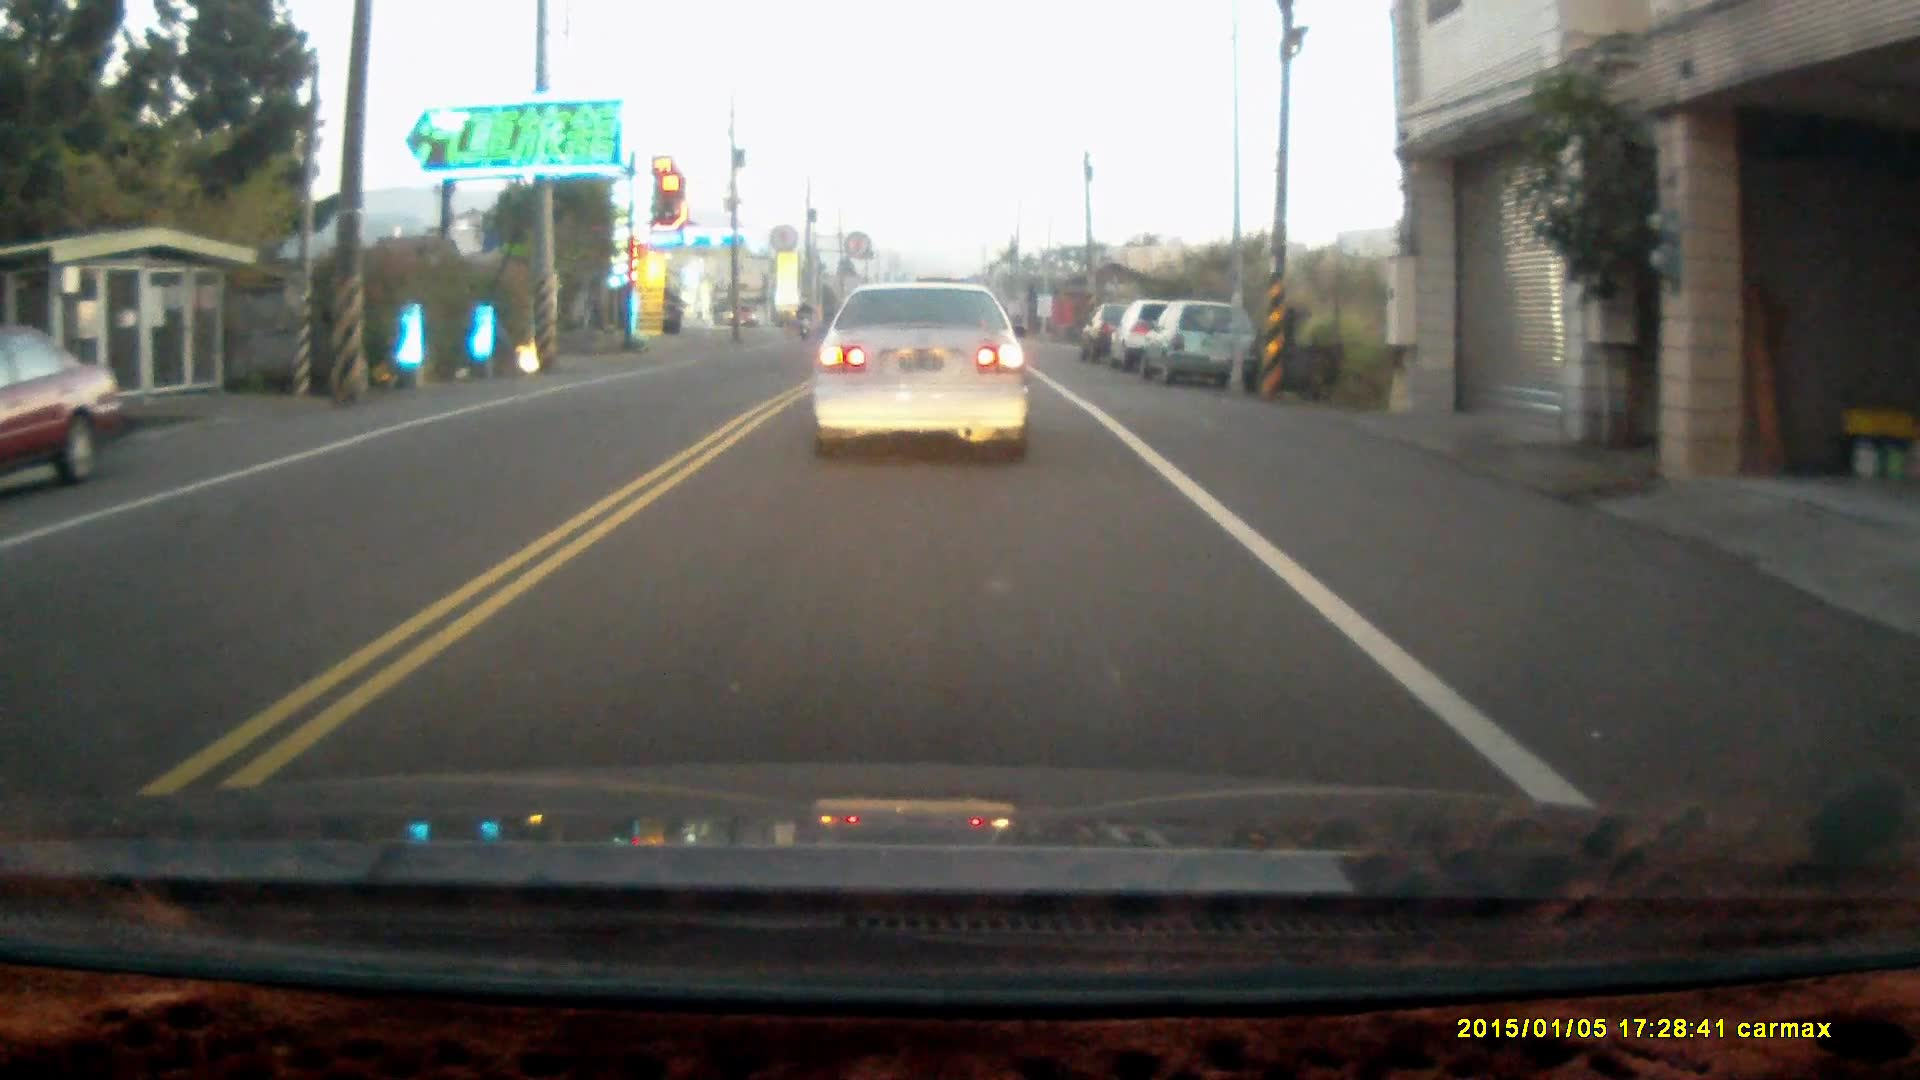vehicle: (810, 278, 1033, 460), (1, 328, 123, 497), (1146, 302, 1261, 398), (1116, 295, 1207, 368), (1075, 301, 1171, 360)
